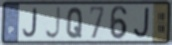6: (109, 5, 129, 41)
7: (89, 5, 106, 40)
J: (43, 6, 61, 40), (133, 6, 151, 39), (21, 7, 38, 39)
Q: (65, 6, 84, 40)
